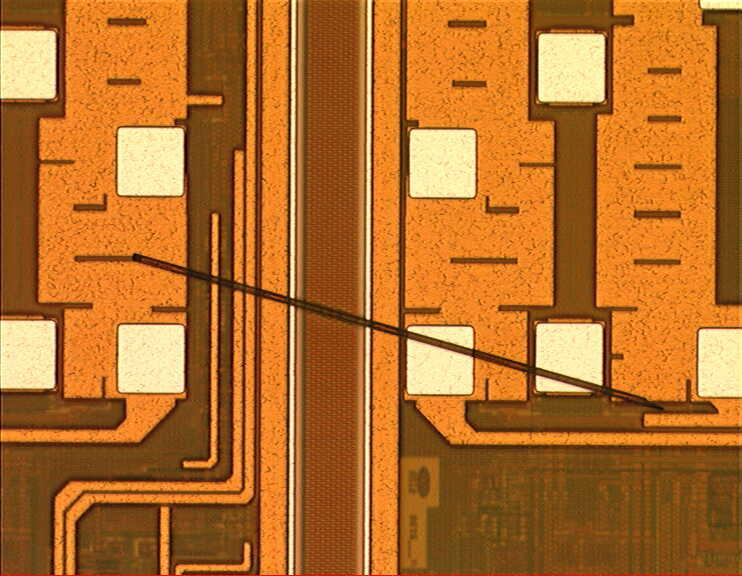PIQ PARTICLE: (129, 249, 676, 418)
